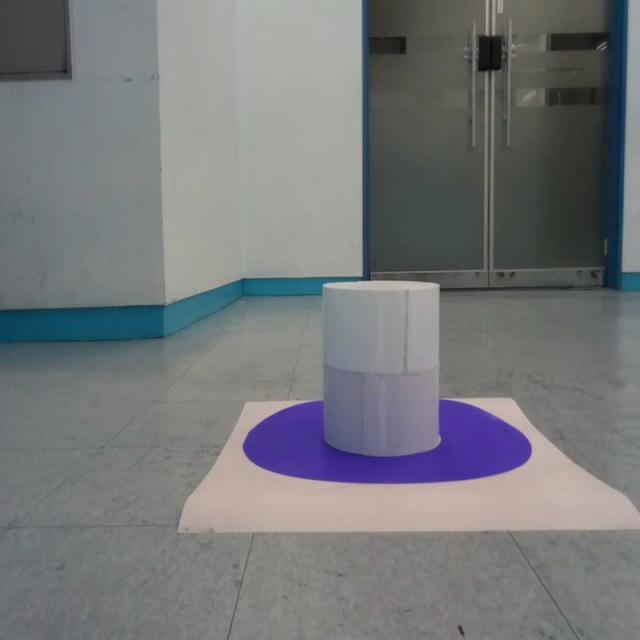cylinder: (322, 280, 441, 458)
